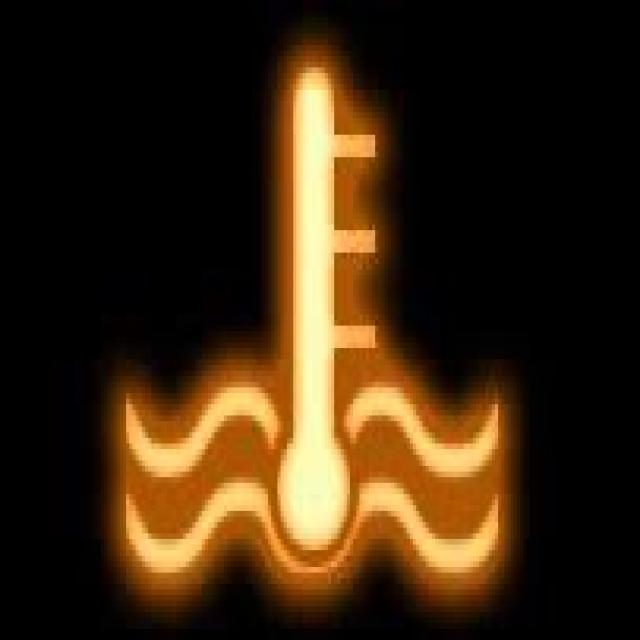kontrolka: (78, 34, 536, 619)
